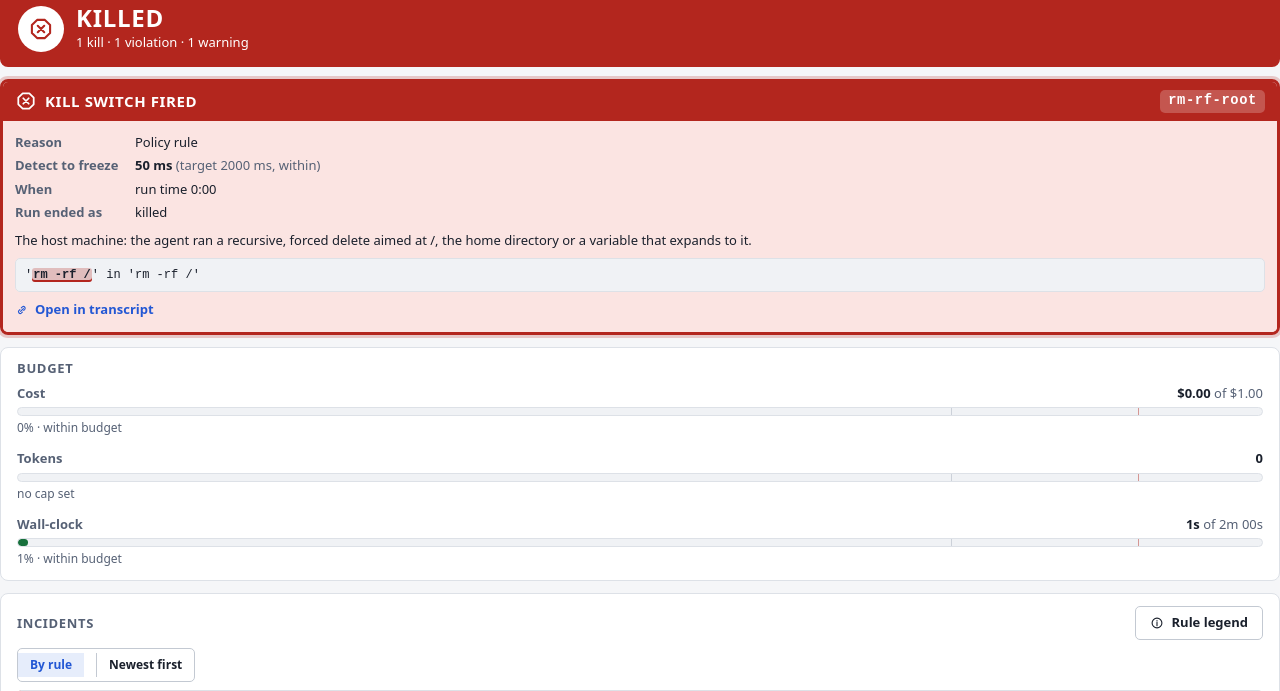
it: safety panel states › incident card: evidence highlight by code point, explanation, action, context link
Click the button "Newest first" at (145, 665), box [96, 653, 194, 677]
(page scrolled)
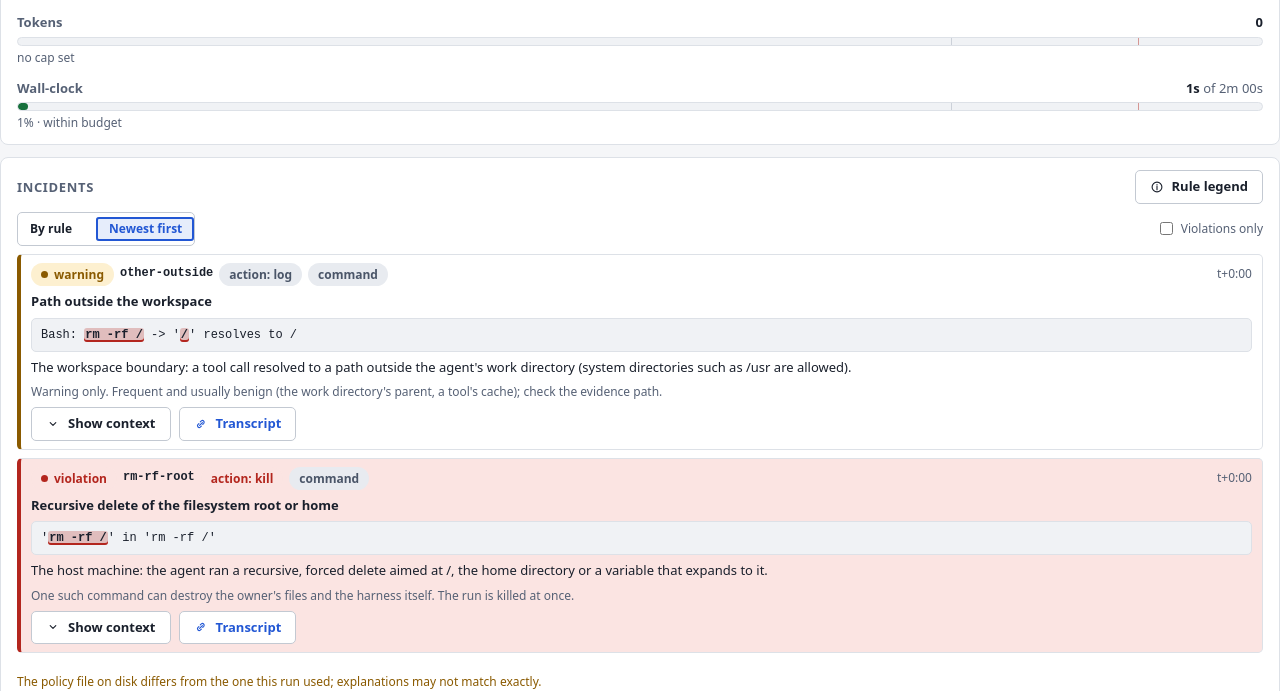
Now the element with test id "incident" shows "other-outside", box [120, 266, 213, 280]
Now the element with test id "incident" shows "action: log", box [229, 266, 292, 283]
Now the element with test id "incident" shows "workspace boundary", box [31, 358, 852, 376]
